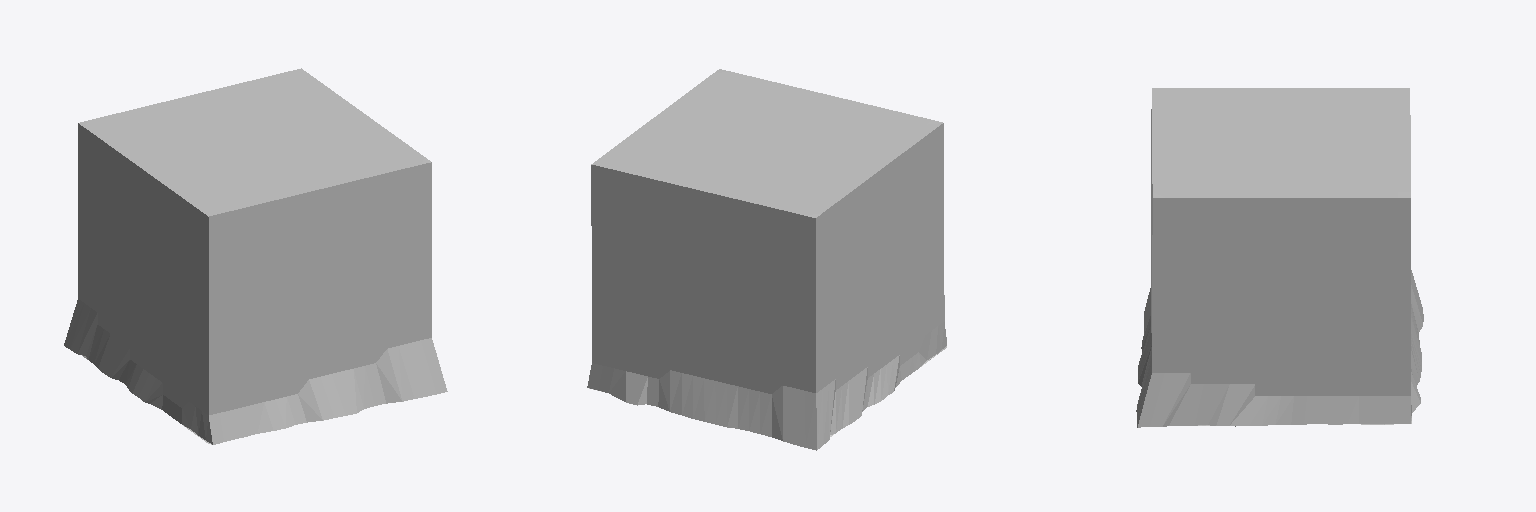
Rendered from mod0184.obj.
The picture shows the model from 3 angles: view 1: azimuth 30°, elevation 25°; view 2: azimuth 150°, elevation 25°; view 3: azimuth 270°, elevation 25°; orthographic projection.
Visible parts, largest first — view 1: Box001; view 2: Box001; view 3: Box001.
Boxes of the visible parts, x1=… form: Box001: x1=64, y1=68, x2=447, y2=444; Box001: x1=587, y1=69, x2=946, y2=450; Box001: x1=1136, y1=88, x2=1423, y2=427.
Size of the model in its own units: 0.5799 by 0.5222 by 0.5979.